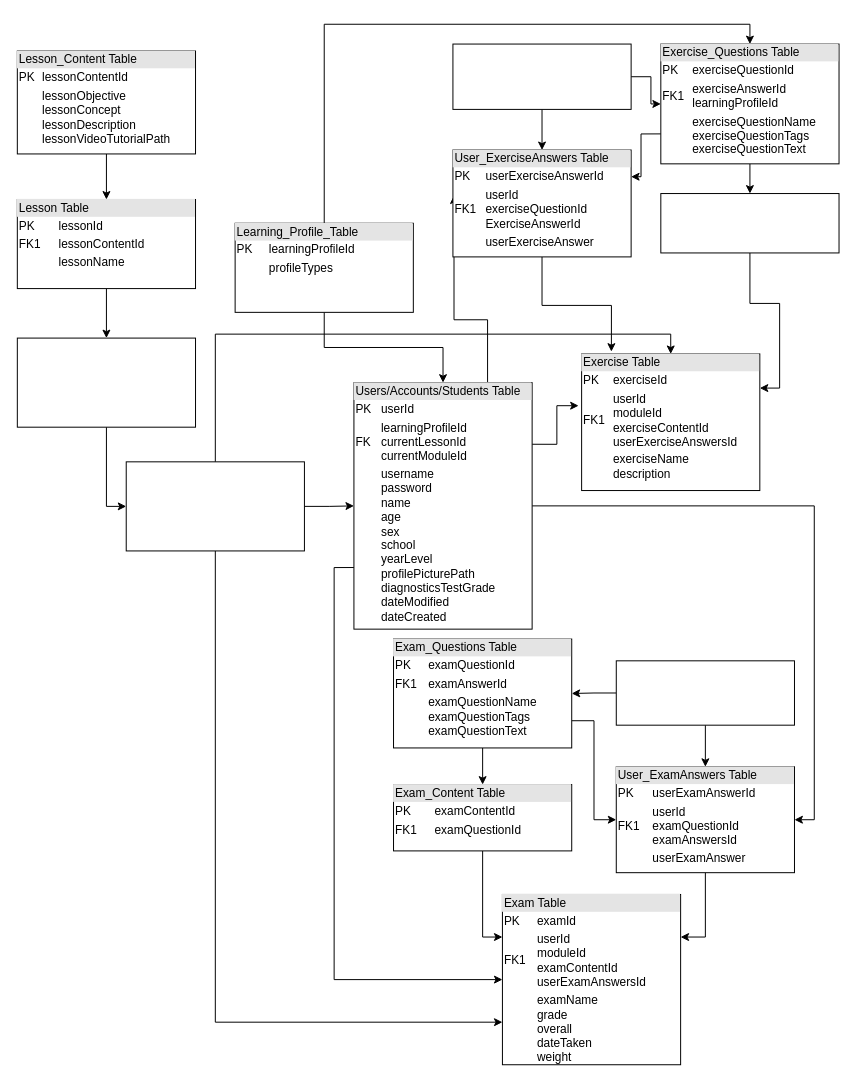
The diagram is 856 pixels wide and 1082 high, and some of its shapes have lost their labels. Here are the shapes that lost their labels. From the top down, the centre of each, then its label:
(541,76): Exercise_Answers Table PK exerciseAnswerId exerciseAnswer
(749,223): Exercise_Content Table PK exerciseContentId FK1 exerciseQuestionId
(106,382): Module_Content Table PK moduleContentId FK1 lessonId
(214,506): Module Table PK moduleId FK1 moduleContentId moduleName moduleDesc
(704,692): Exam _Answers Table PK exam AnswerId exam Answer
